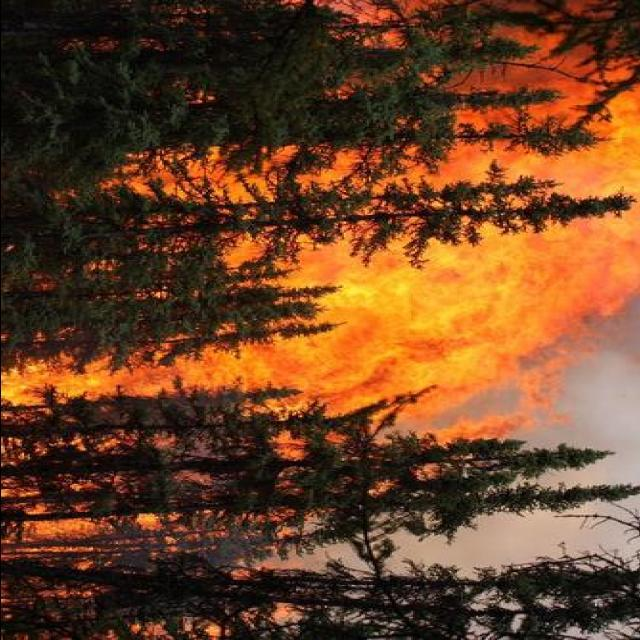Fire: (12, 0, 640, 582)
